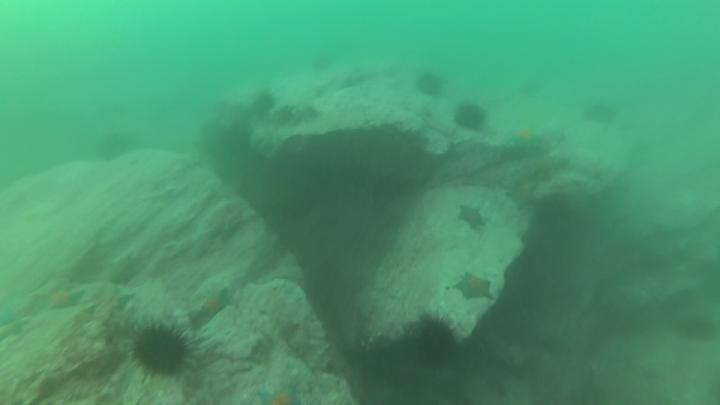holothurian: (451, 269, 496, 304), (40, 280, 86, 314), (199, 287, 235, 325), (507, 179, 542, 215), (454, 202, 492, 235), (256, 383, 308, 405), (505, 128, 545, 152), (1, 298, 19, 328)
starfish: (124, 315, 201, 384), (408, 310, 462, 374), (452, 100, 490, 136), (92, 134, 134, 165), (582, 100, 619, 130), (248, 87, 279, 121), (414, 70, 448, 100), (515, 79, 546, 100), (309, 55, 338, 73)
